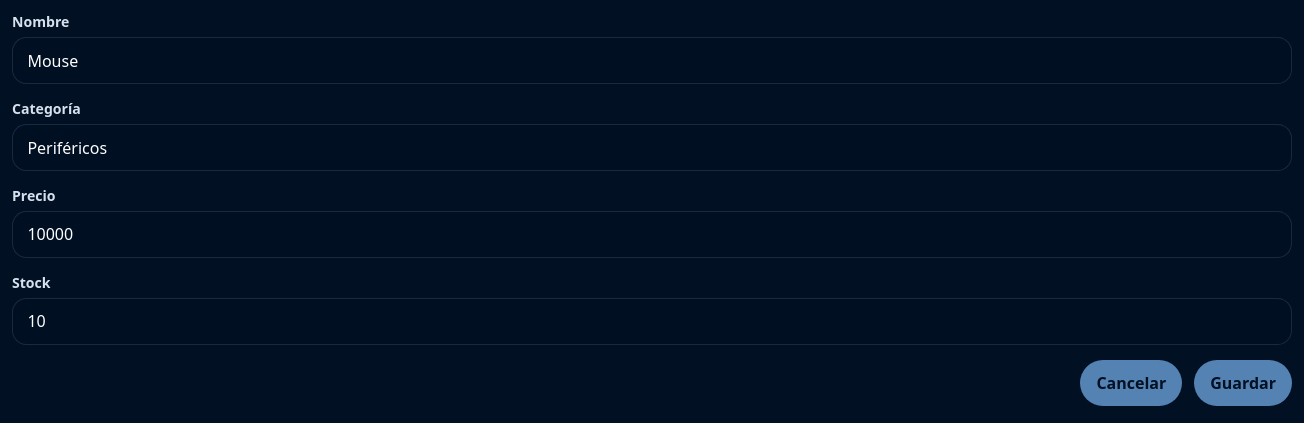
Test case: FormSection Component › sanitiza precio eliminando letras
Replace the text in the field with placeholder "0" below "Precio" with "123abc" at (652, 234), box [12, 211, 1292, 258]
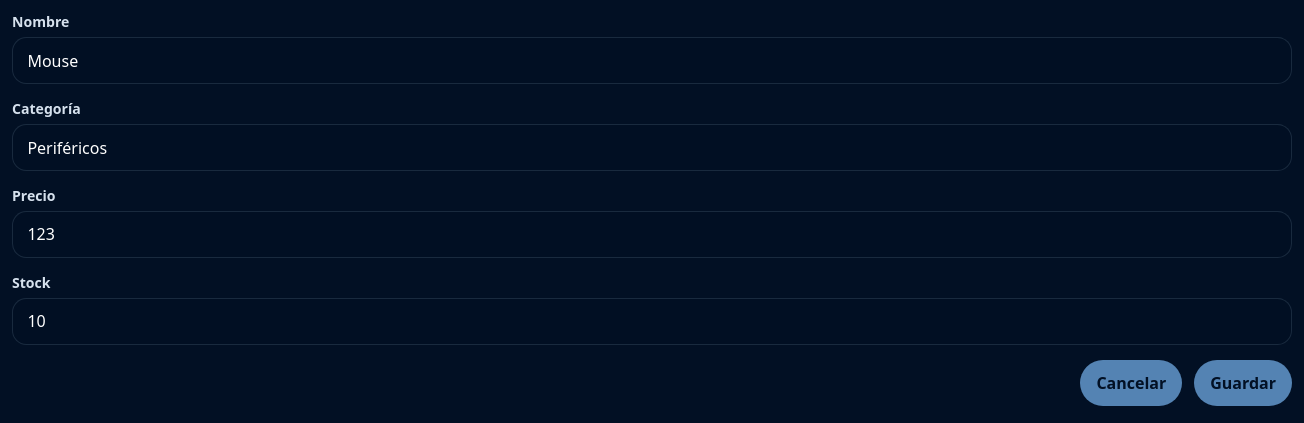
Result: the field showing "123" below "Precio" is shown at [12, 211, 1292, 258]
